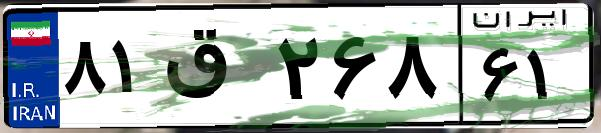1: (525, 38, 570, 115), (110, 28, 158, 98)
2: (270, 28, 330, 110)
6: (330, 28, 385, 110), (475, 38, 525, 113)
8: (385, 28, 445, 110), (57, 26, 110, 100)
ق: (158, 20, 270, 120)
